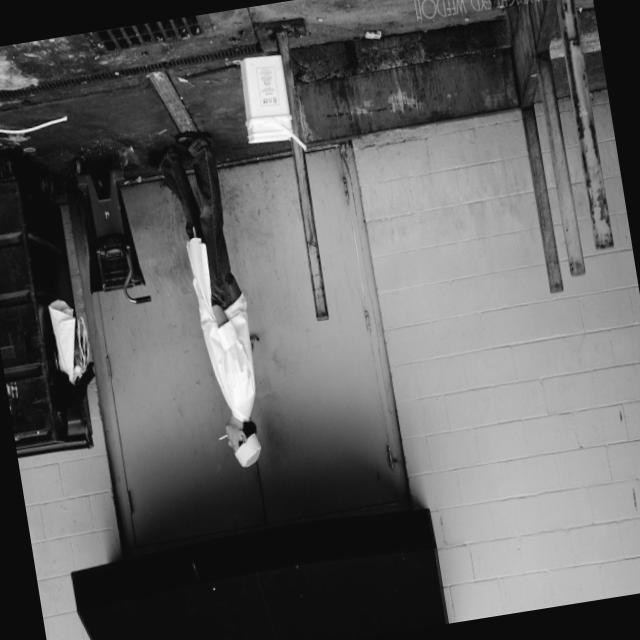smoke: (212, 426, 230, 444)
